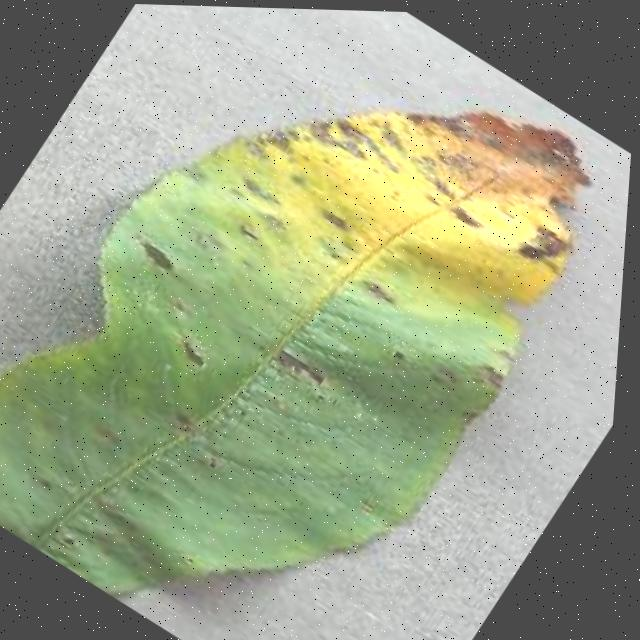Bacterial_spot: (130, 5, 640, 480)
